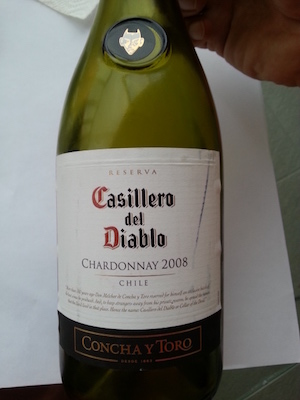casillero del diablo chardonnay: (52, 13, 232, 388)
